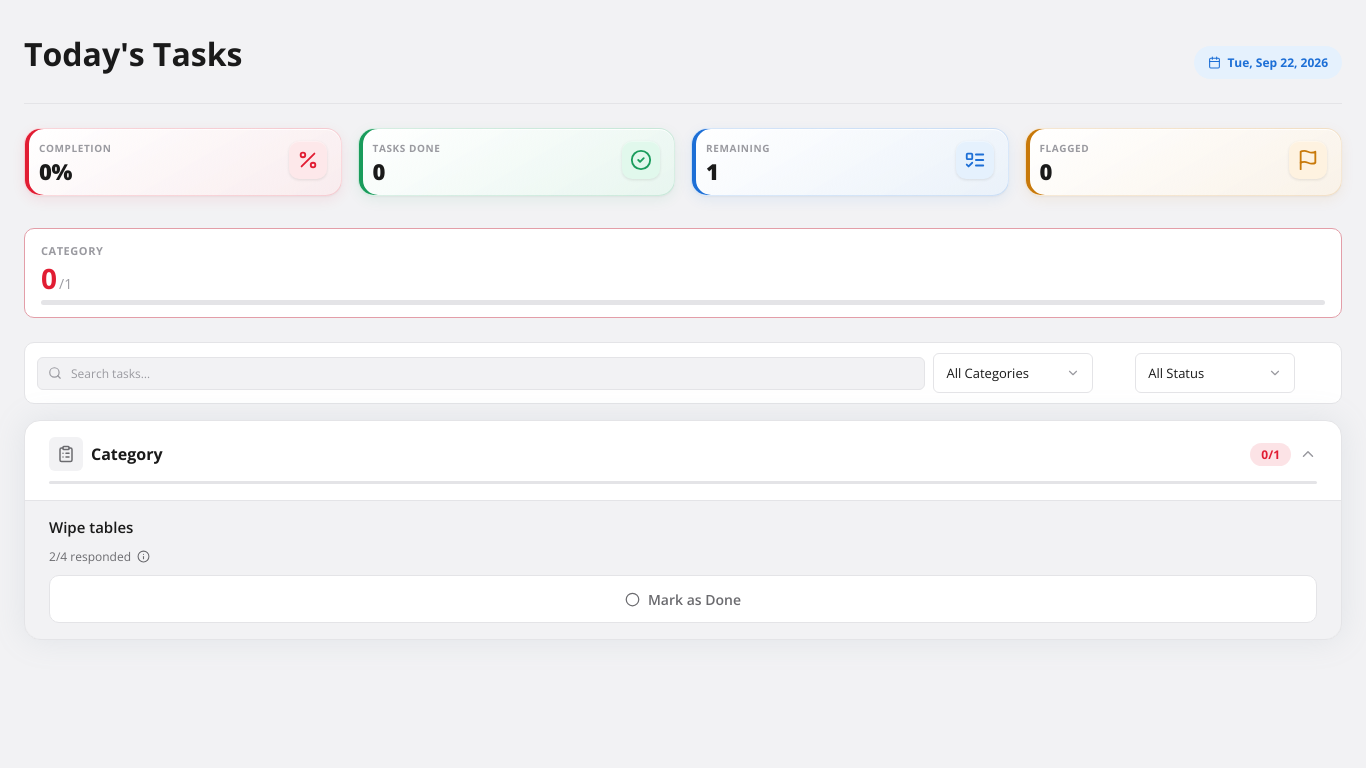
it: Employee Checklist "X/Y Completed By" display › shows each active responder name, from backend data, in the info tooltip on hover
Hover over the button named "who completed wipe tables today" at [144, 557], box [137,550,150,563]
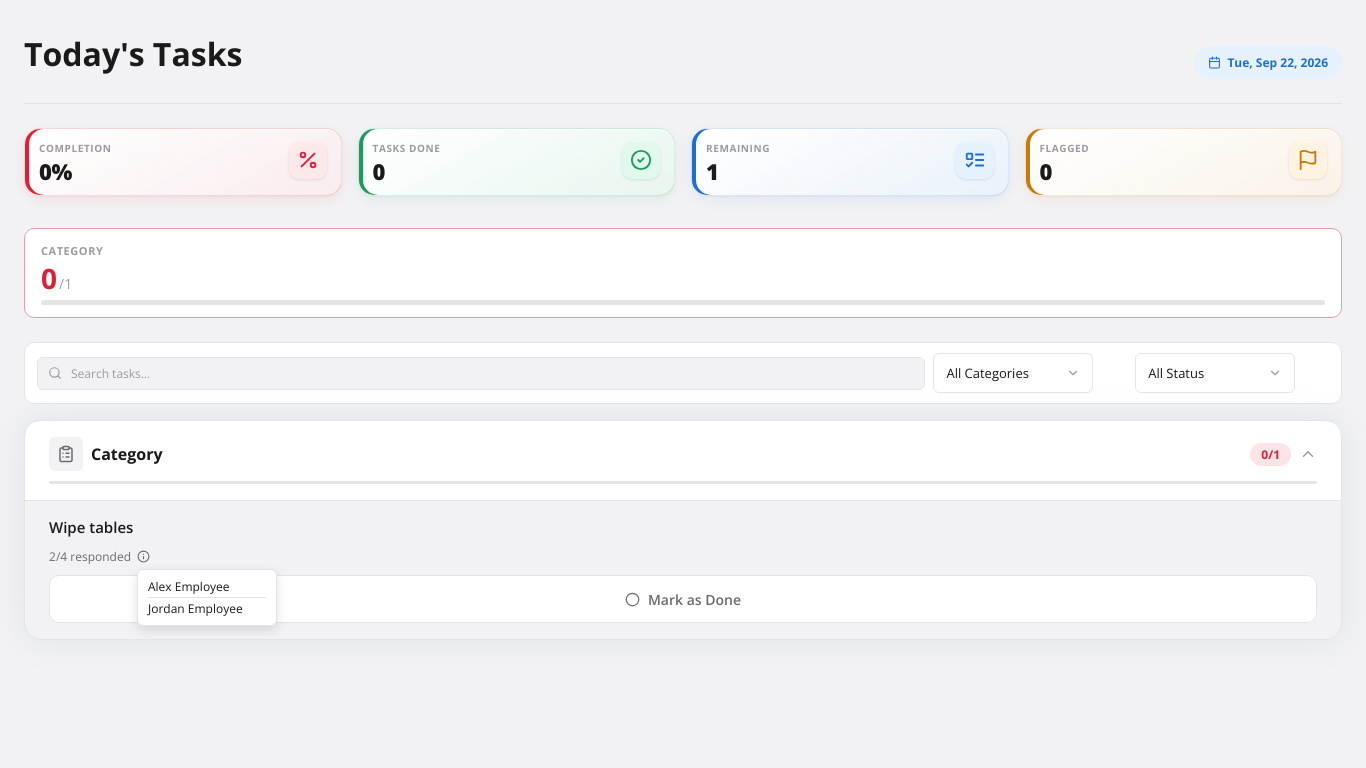
Now the tooltip shows "Alex Employee", box [148,578,230,595]
Now the tooltip shows "Jordan Employee", box [148,600,243,617]
Move the pointer off the button named "who completed wipe tables today", box [137,550,150,563]
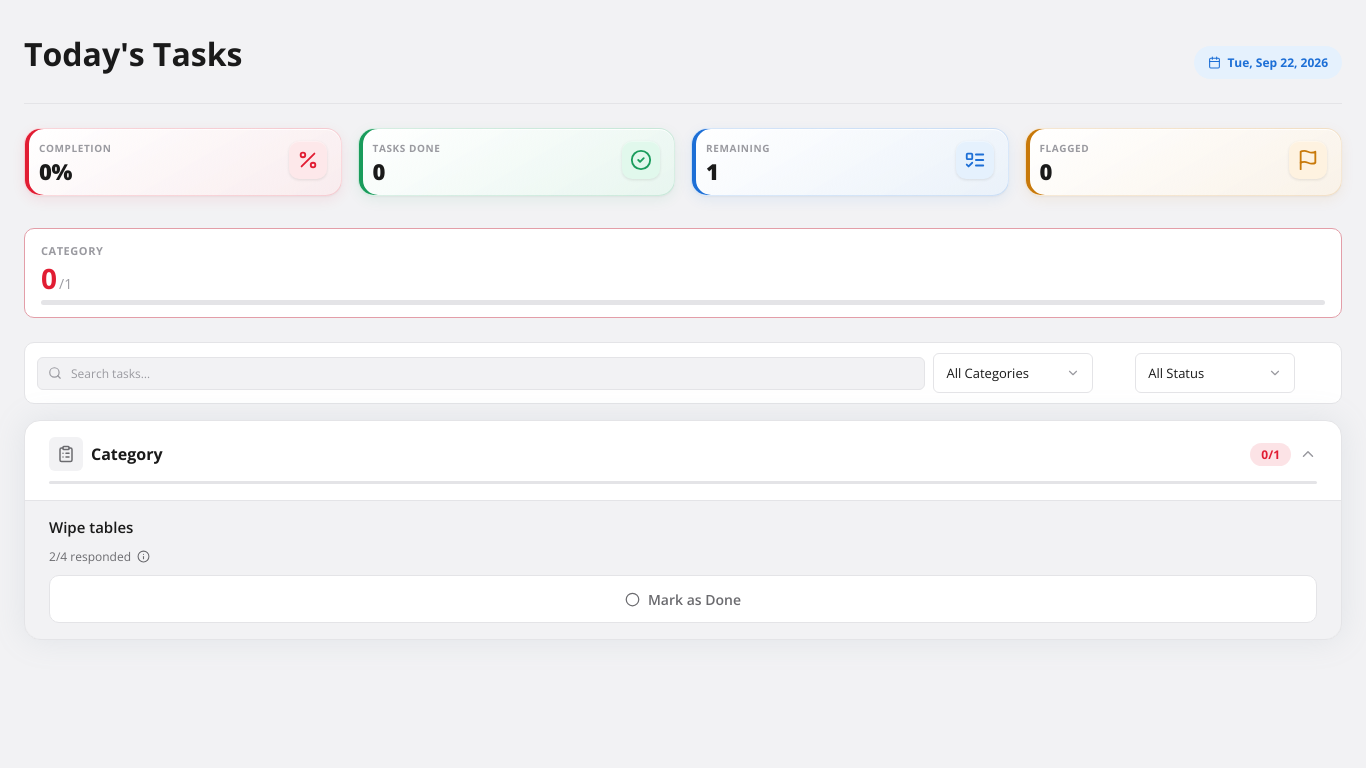
Now the tooltip "Alex Employee Jordan Employee" is gone
